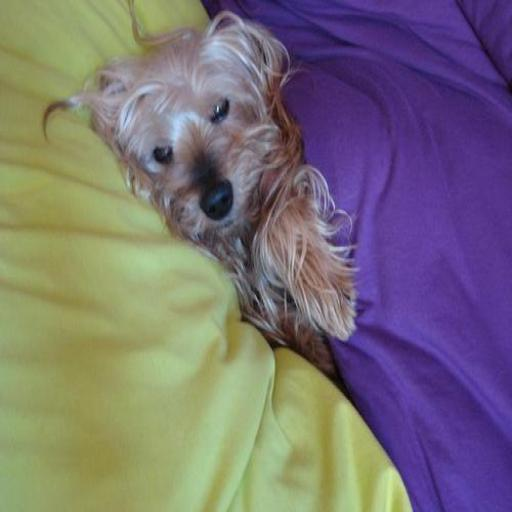dog_face: (95, 34, 288, 269)
